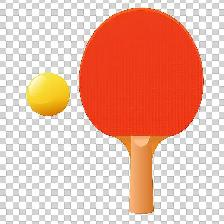YellowBall: (25, 72, 69, 116)
